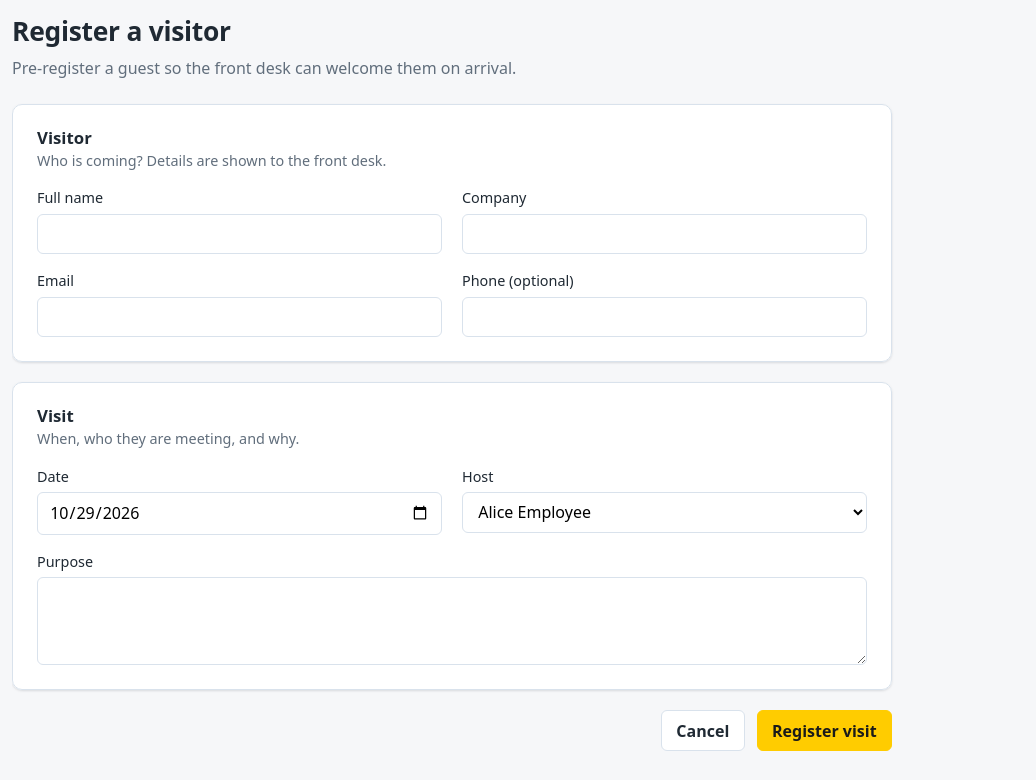
Test case: RegisterVisitPage › maps API 422 field errors onto the form
This screenshot has width=1036, height=780.
Type "Victor Visitor" into the field labelled "Full name".
click(240, 234); type("Victor Visitor")  # box x1=37 y1=214 x2=442 y2=254
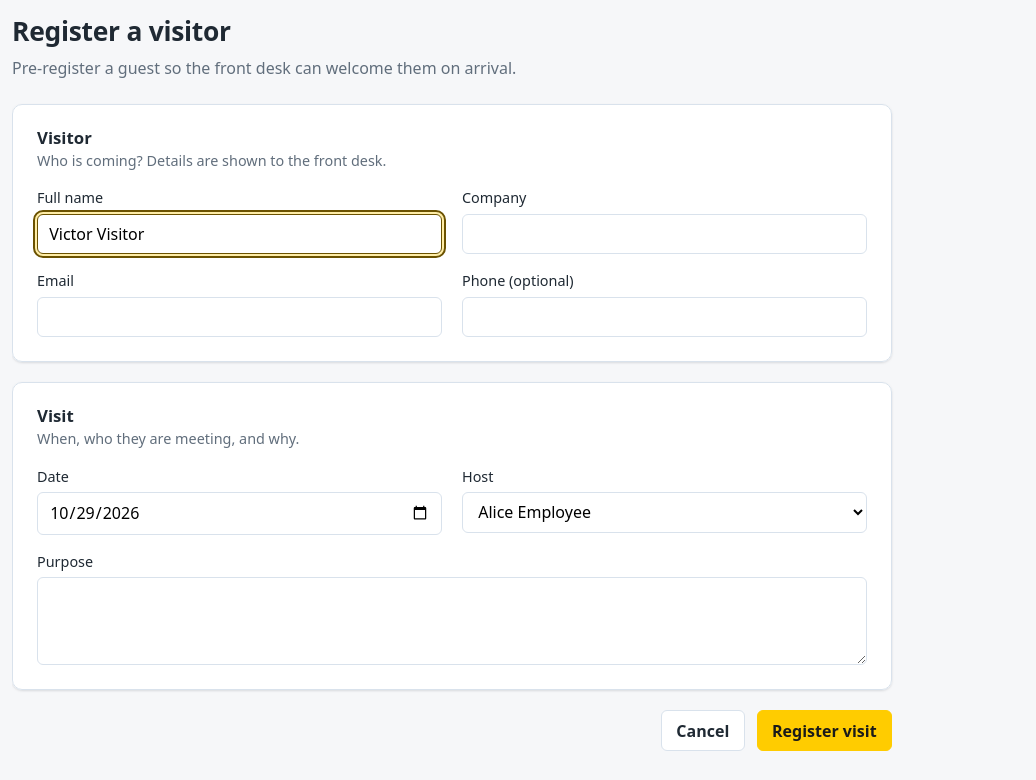
Type "victor@example.com" into the field labelled "Email".
click(240, 317); type("victor@example.com")  # box x1=37 y1=297 x2=442 y2=337
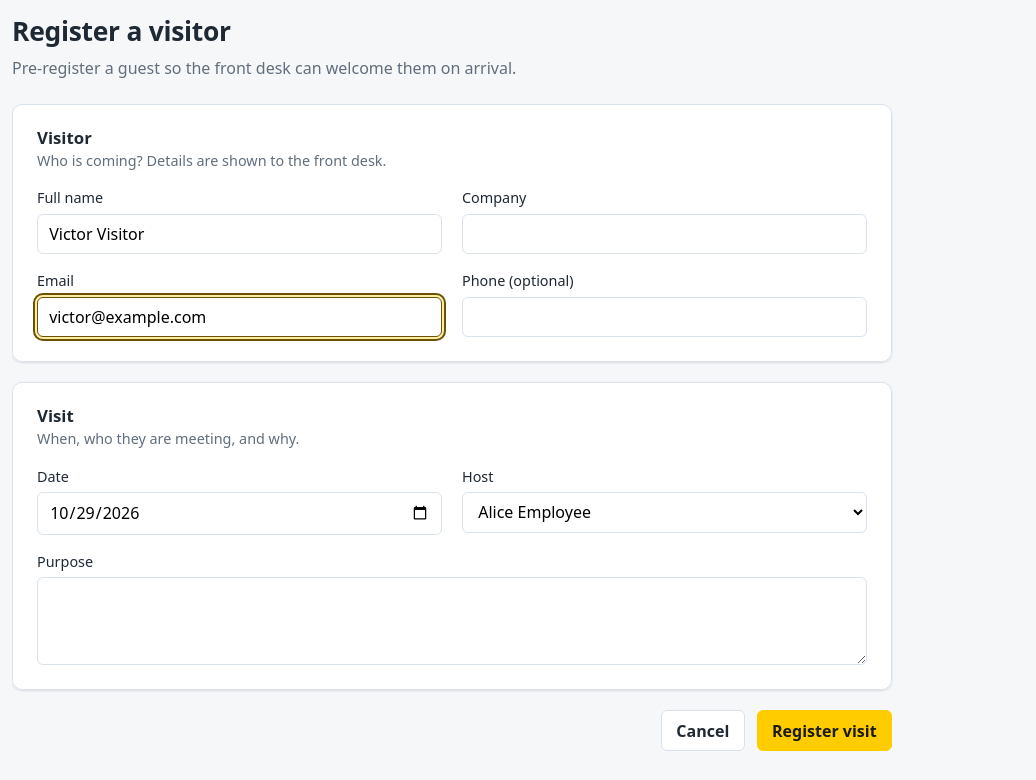
Type "Globex" into the field labelled "Company".
click(664, 234); type("Globex")  # box x1=462 y1=214 x2=867 y2=254
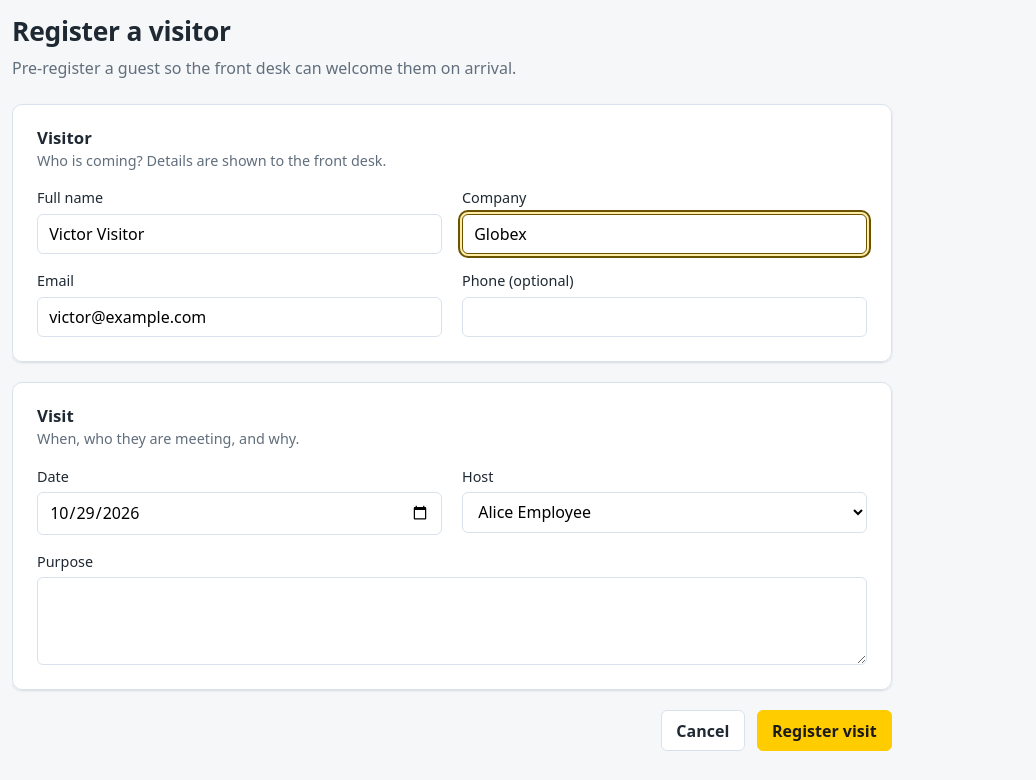
Type "Quarterly review" into the text box labelled "Purpose".
click(452, 621); type("Quarterly review")  # box x1=37 y1=577 x2=867 y2=665
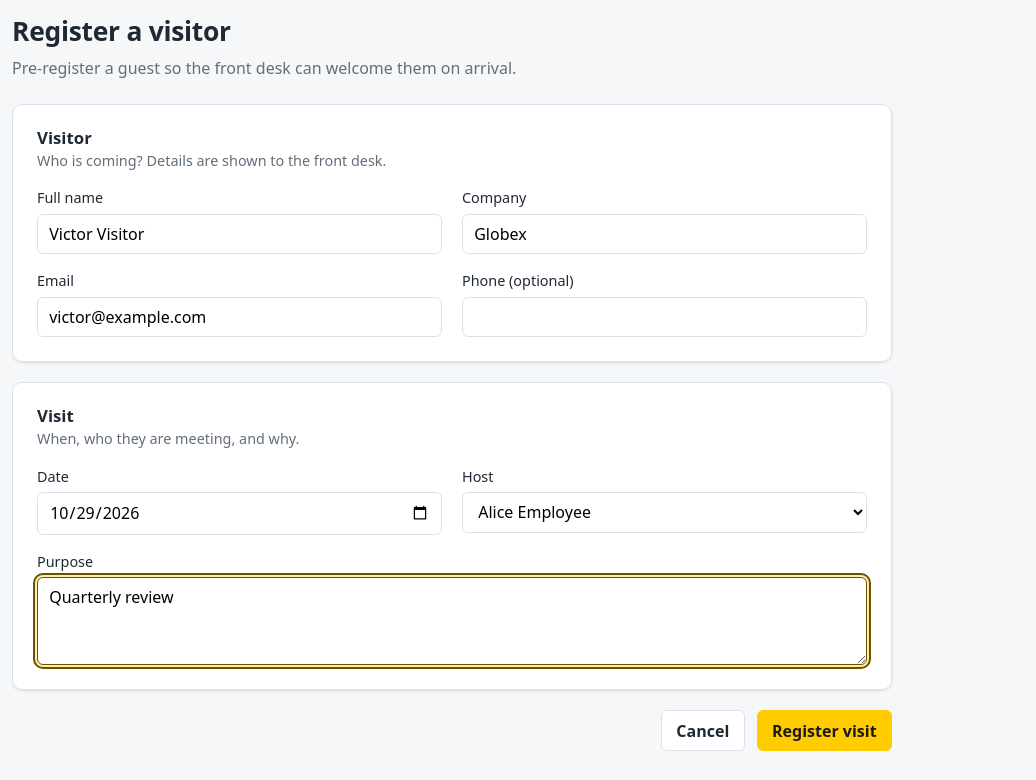
Click the button "Register visit".
click(824, 730)  # box x1=757 y1=710 x2=892 y2=751
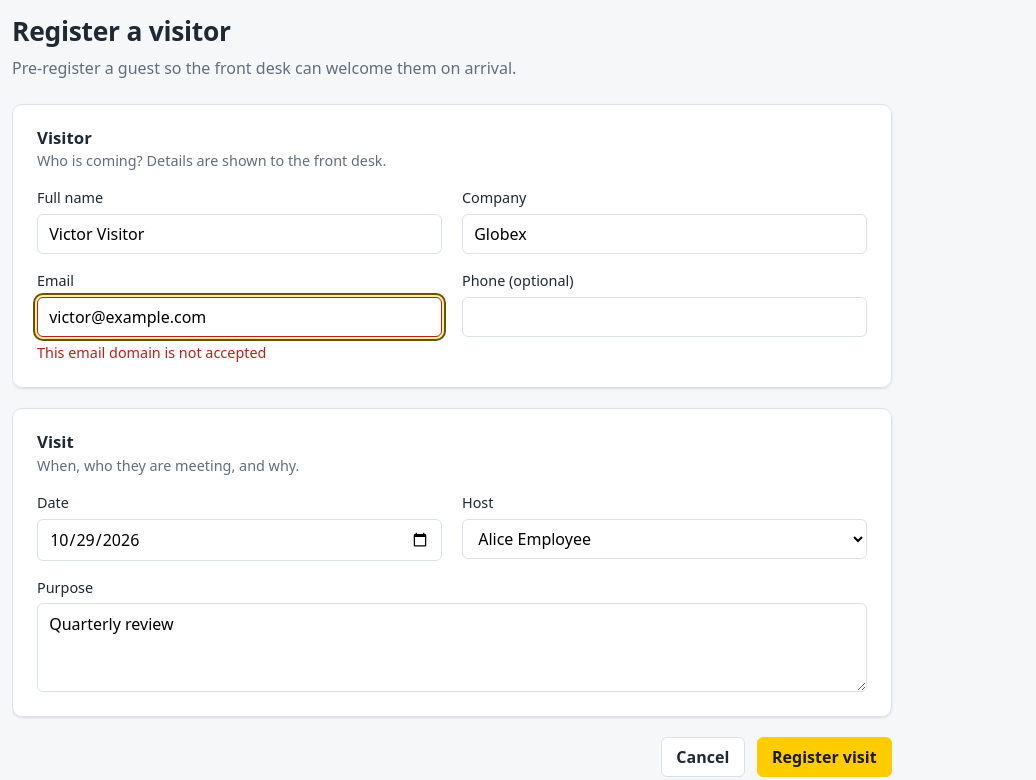
Result: the text "This email domain is not accepted" is shown at x1=37 y1=343 x2=266 y2=362
